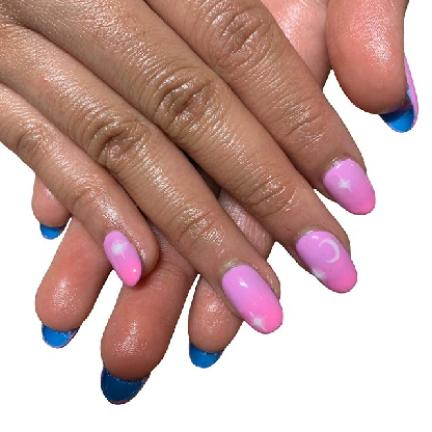Nail: (221, 265, 283, 334), (295, 230, 357, 294), (322, 157, 377, 215), (103, 230, 142, 287)
